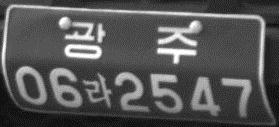0: (14, 65, 47, 107)
2: (113, 72, 149, 113)
4: (190, 75, 219, 118)
5: (150, 72, 183, 114)
6: (49, 67, 82, 109)
7: (221, 77, 253, 117)
광주_D: (63, 20, 199, 65)
라: (83, 73, 112, 110)
